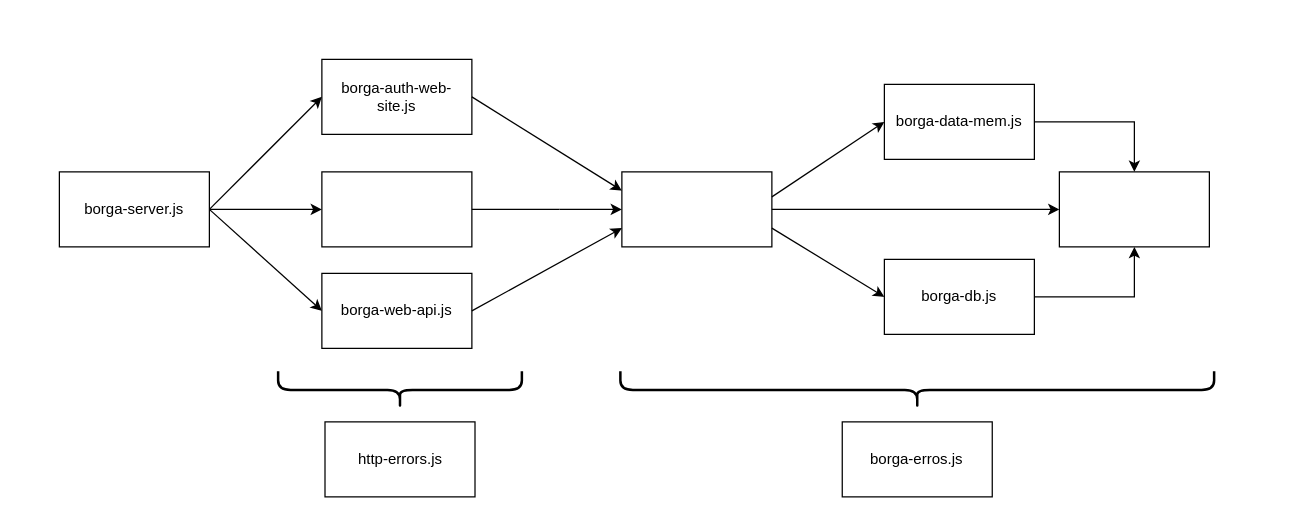
The diagram is 1293 pixels wide and 530 high, and some of its shapes have lost their labels. The box of each missing label's shape, as (x1, y1, x2, y2) in pixels:
borga-games-data.js: (1058, 171, 1209, 247)
borga-services.js: (621, 171, 772, 247)
borga-web-site.js: (321, 171, 472, 247)
